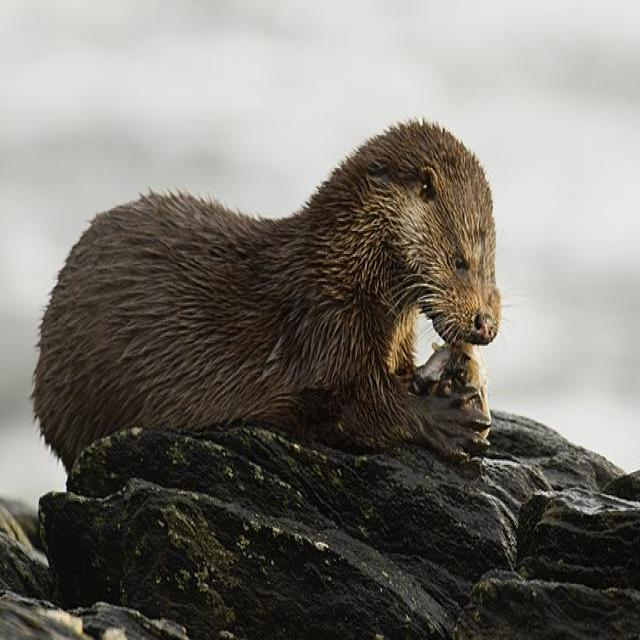otter: (36, 124, 500, 454)
